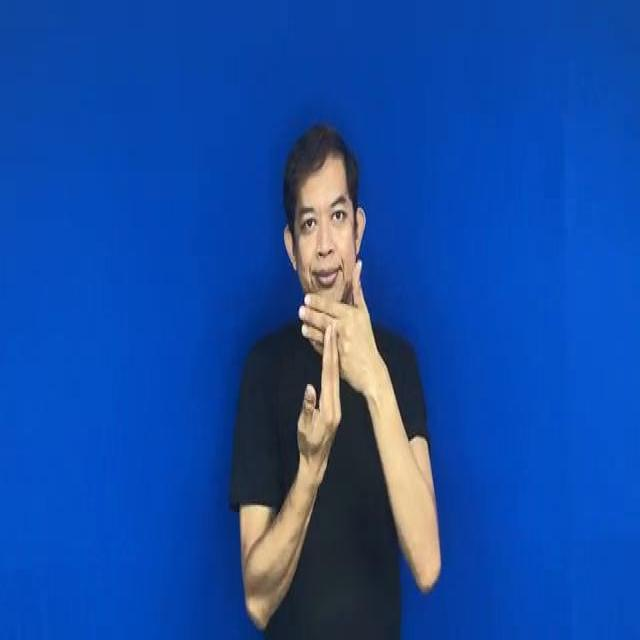bread: (291, 261, 393, 487)
